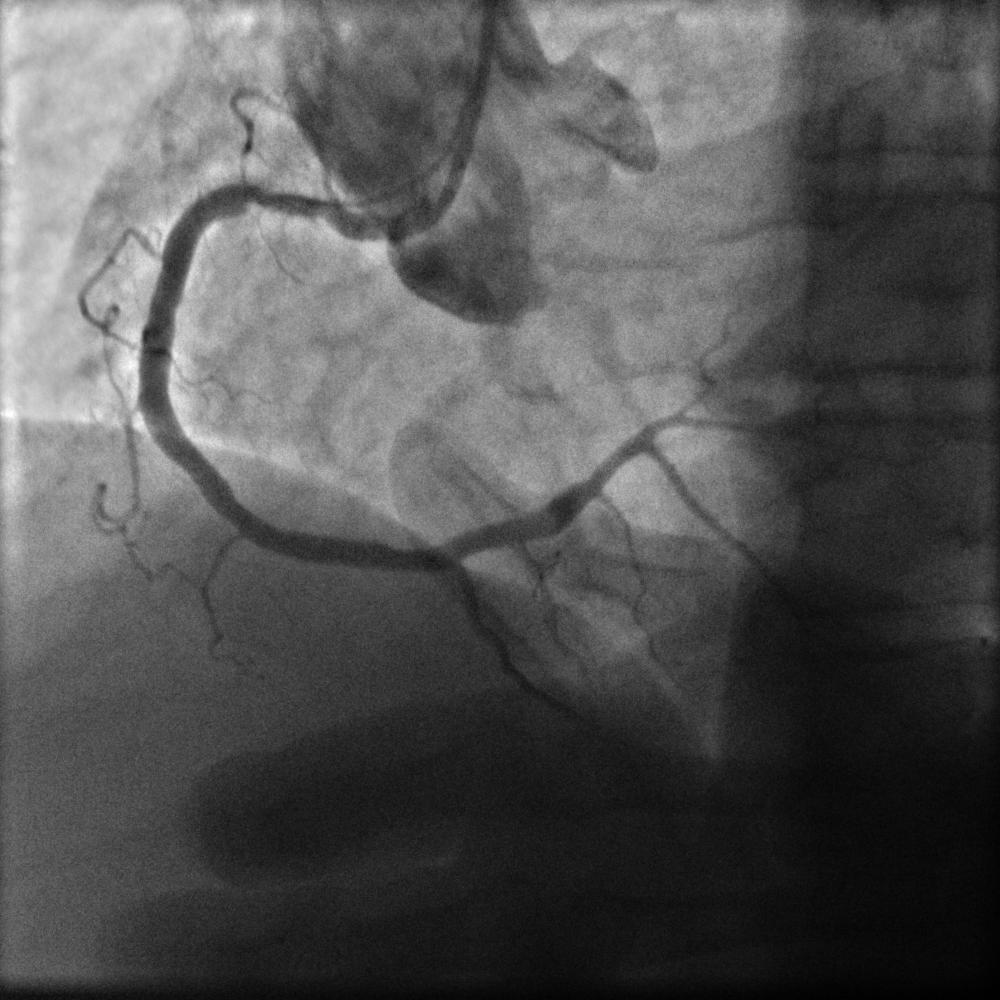Stenosis: (238, 174, 329, 226)
